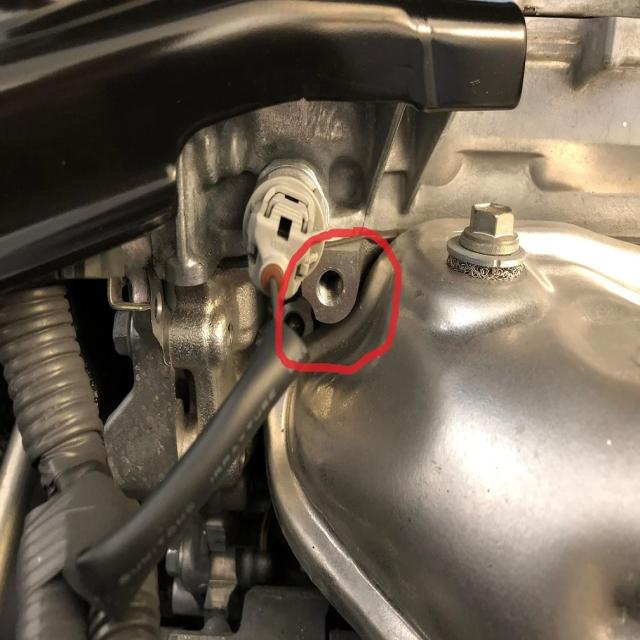Missing bolt: (312, 261, 361, 328)
Regular bolt: (466, 200, 521, 254)
